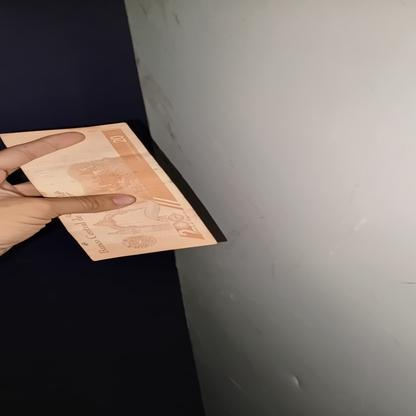twenty-back-vef: (0, 121, 218, 262)
